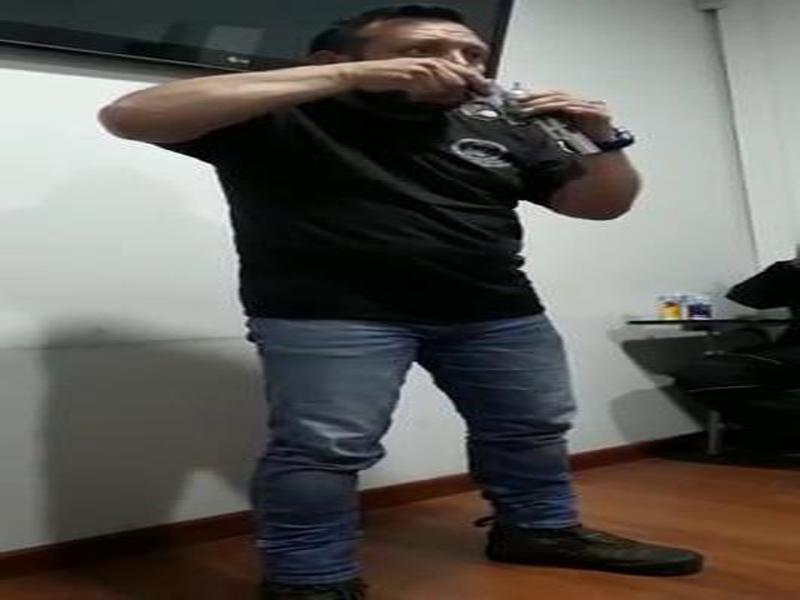Revolver: (400, 49, 625, 174)
